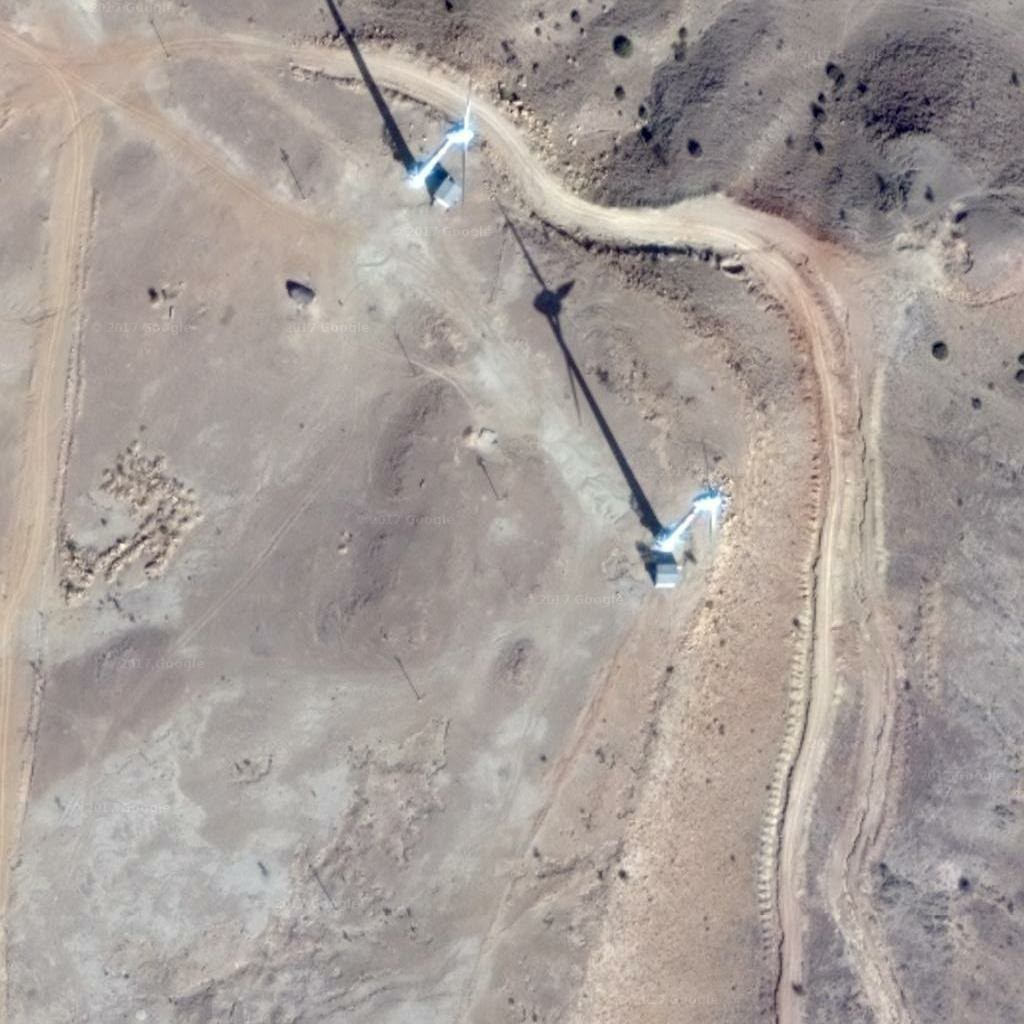Windmill: (491, 197, 668, 517)
